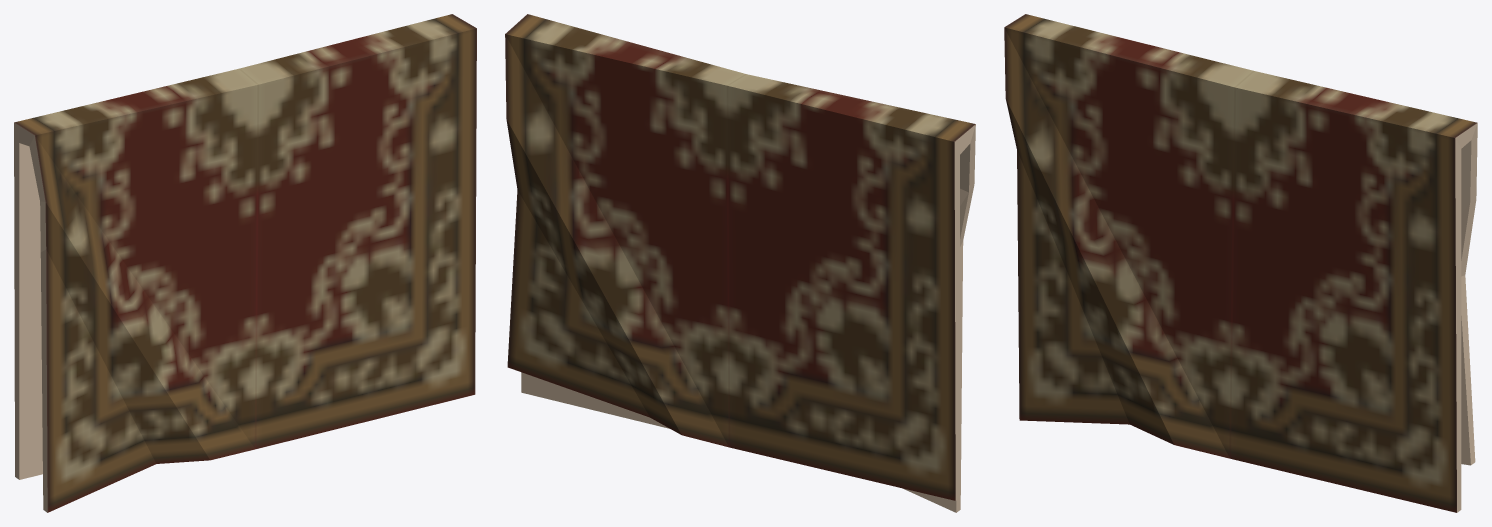
The model's file is SM_Prop_Rug_Hanging_01.glb.
3 views of the same model, side by side, from view 1: azimuth 30°, elevation 25°; view 2: azimuth 150°, elevation 25°; view 3: azimuth 330°, elevation 25° (orthographic). The views are drawn at different scales.
Parts seen in each view (by area): view 1: SM_Prop_Rug_Hanging_01; view 2: SM_Prop_Rug_Hanging_01; view 3: SM_Prop_Rug_Hanging_01.
Boxes of the visible parts, x1=… form: SM_Prop_Rug_Hanging_01: x1=14, y1=14, x2=476, y2=512; SM_Prop_Rug_Hanging_01: x1=505, y1=14, x2=975, y2=512; SM_Prop_Rug_Hanging_01: x1=1004, y1=14, x2=1477, y2=512.
Bounding box in the file's own units: 1.97 × 1.63 × 0.242.
1 material, 1 textured.
